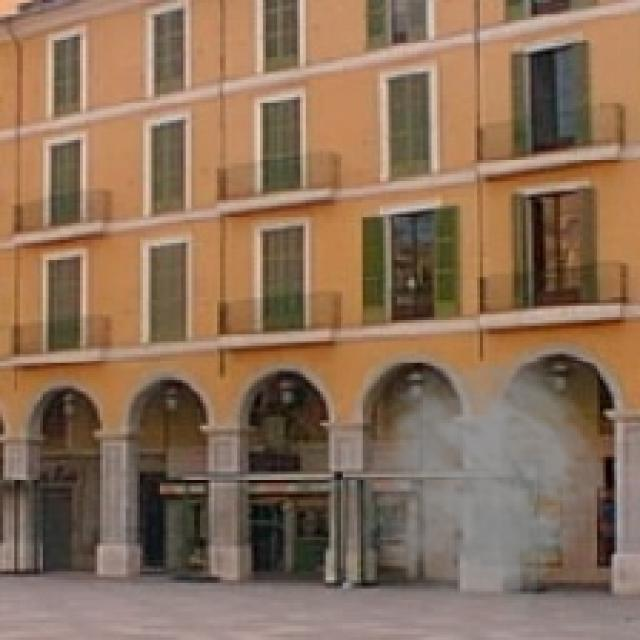Smoke: (342, 348, 608, 626)
